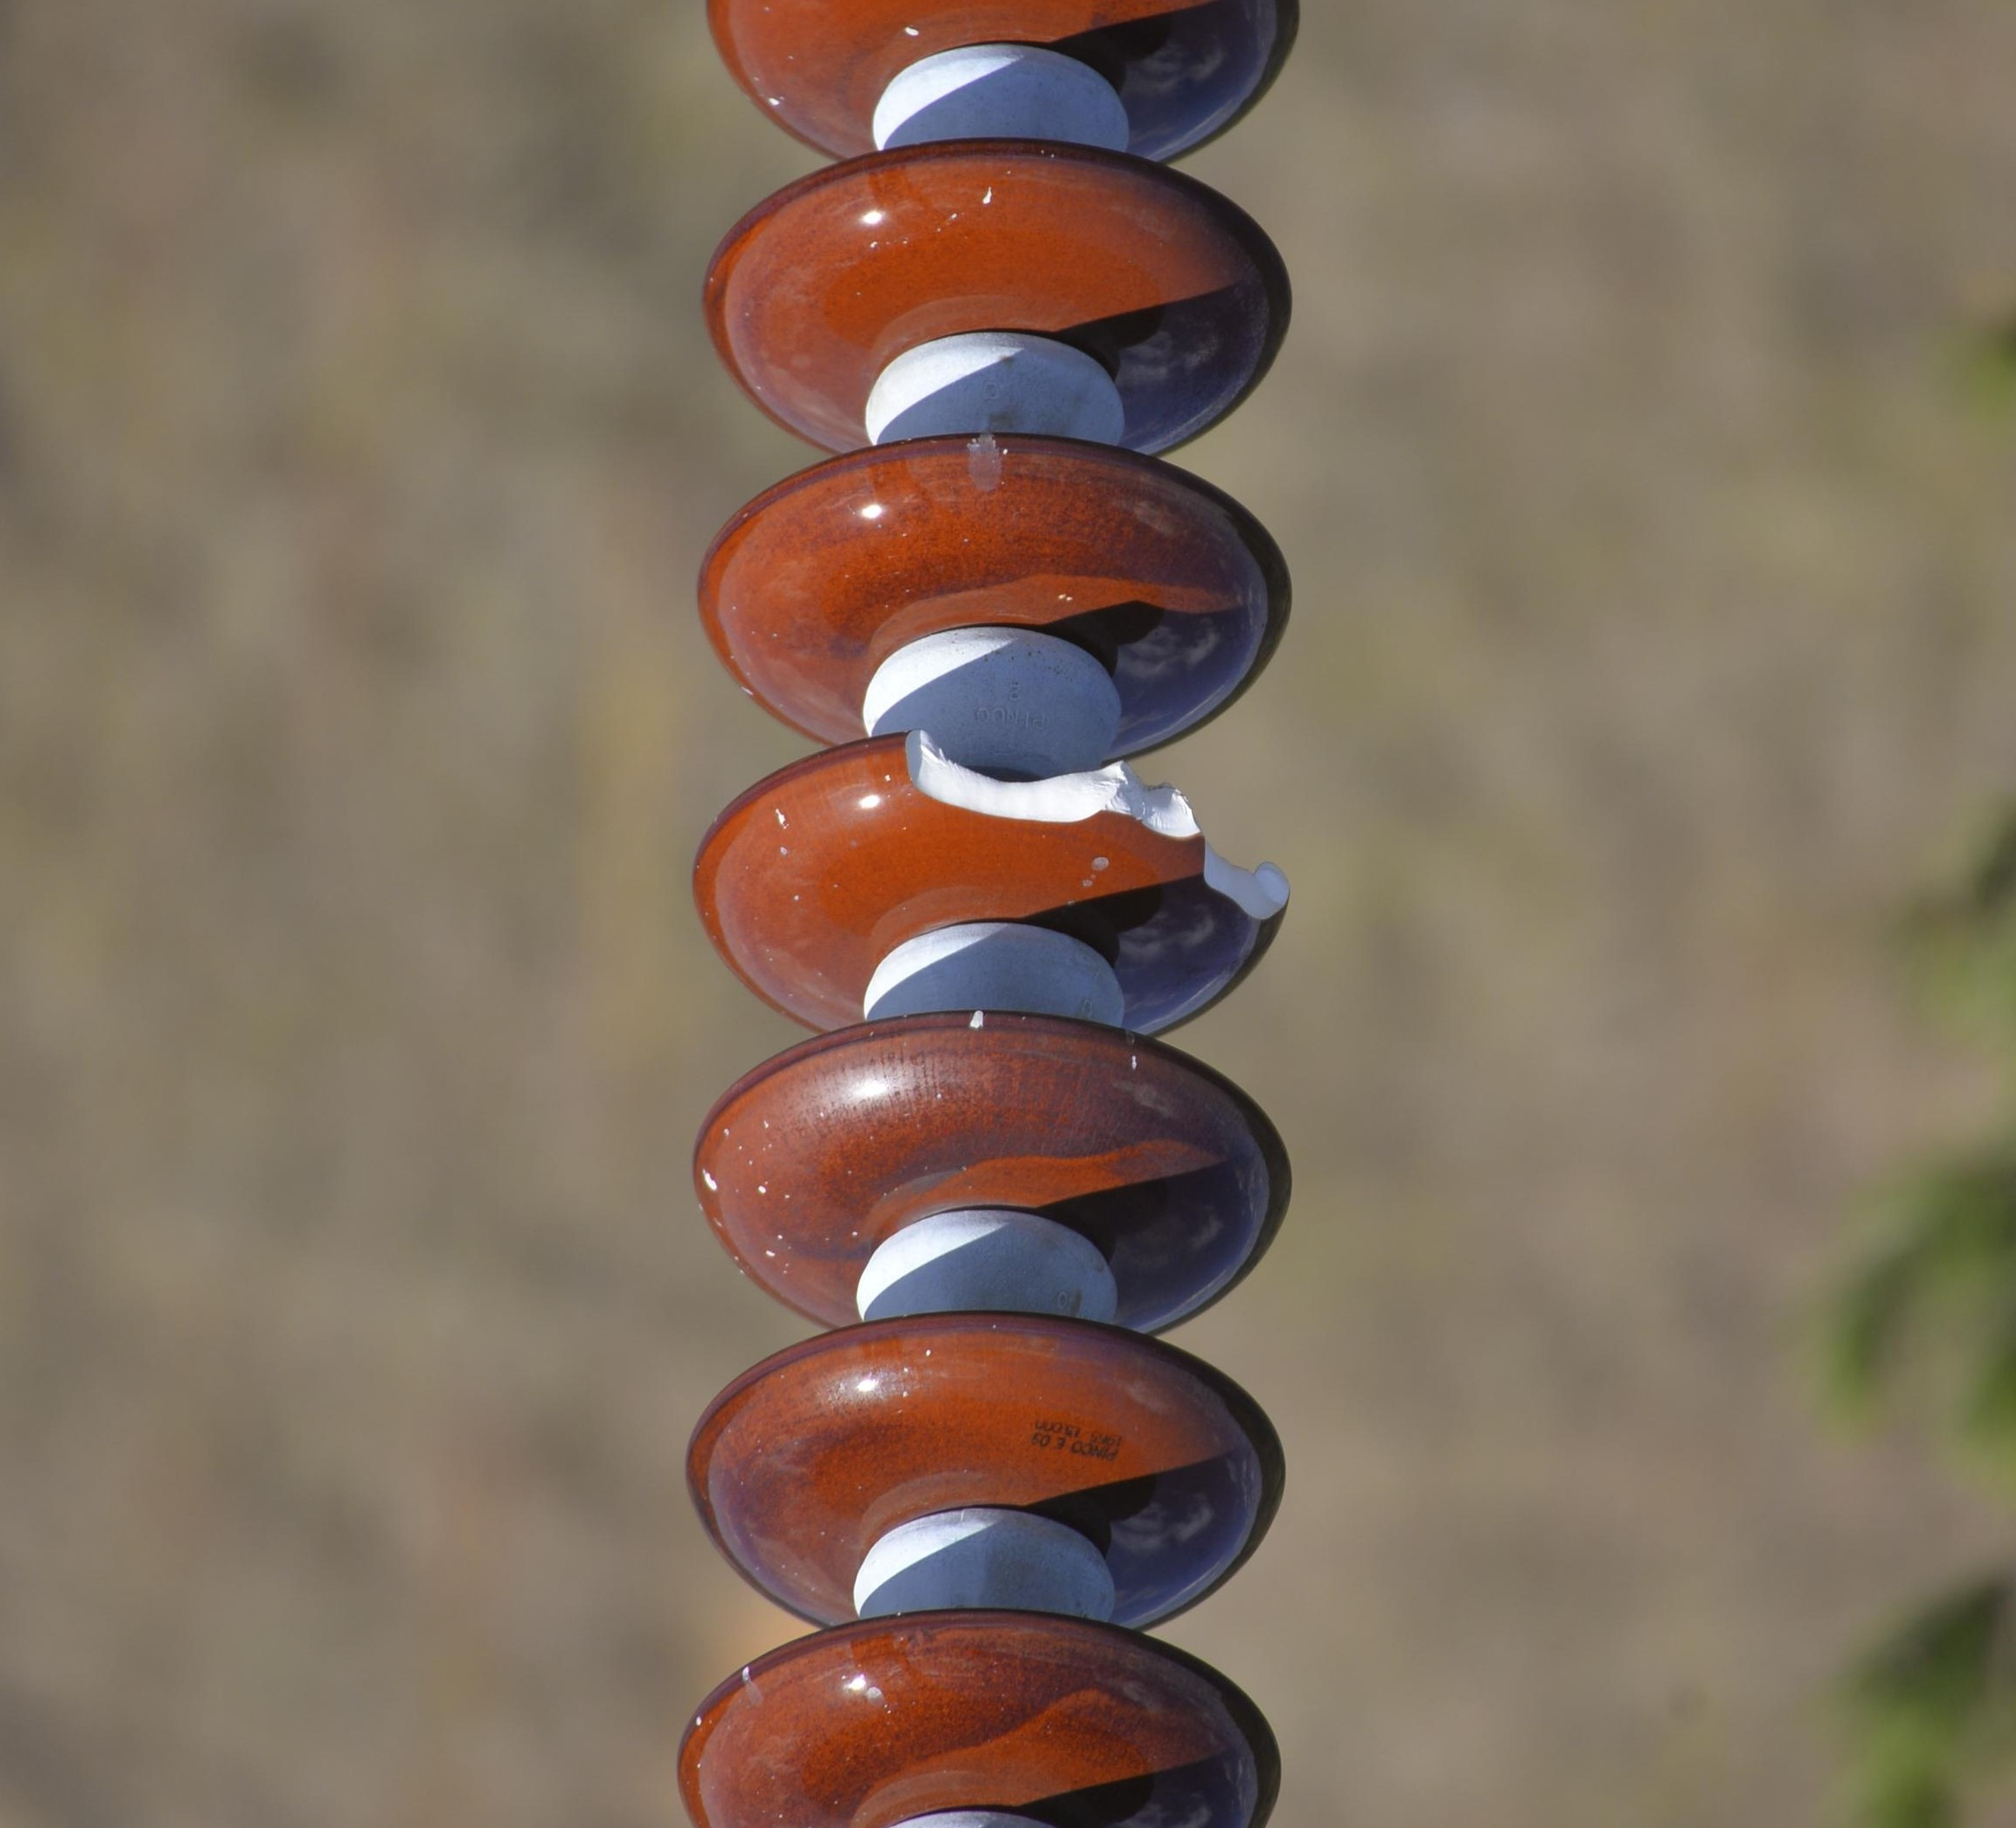insulator breakage: (681, 706, 1317, 1031)
